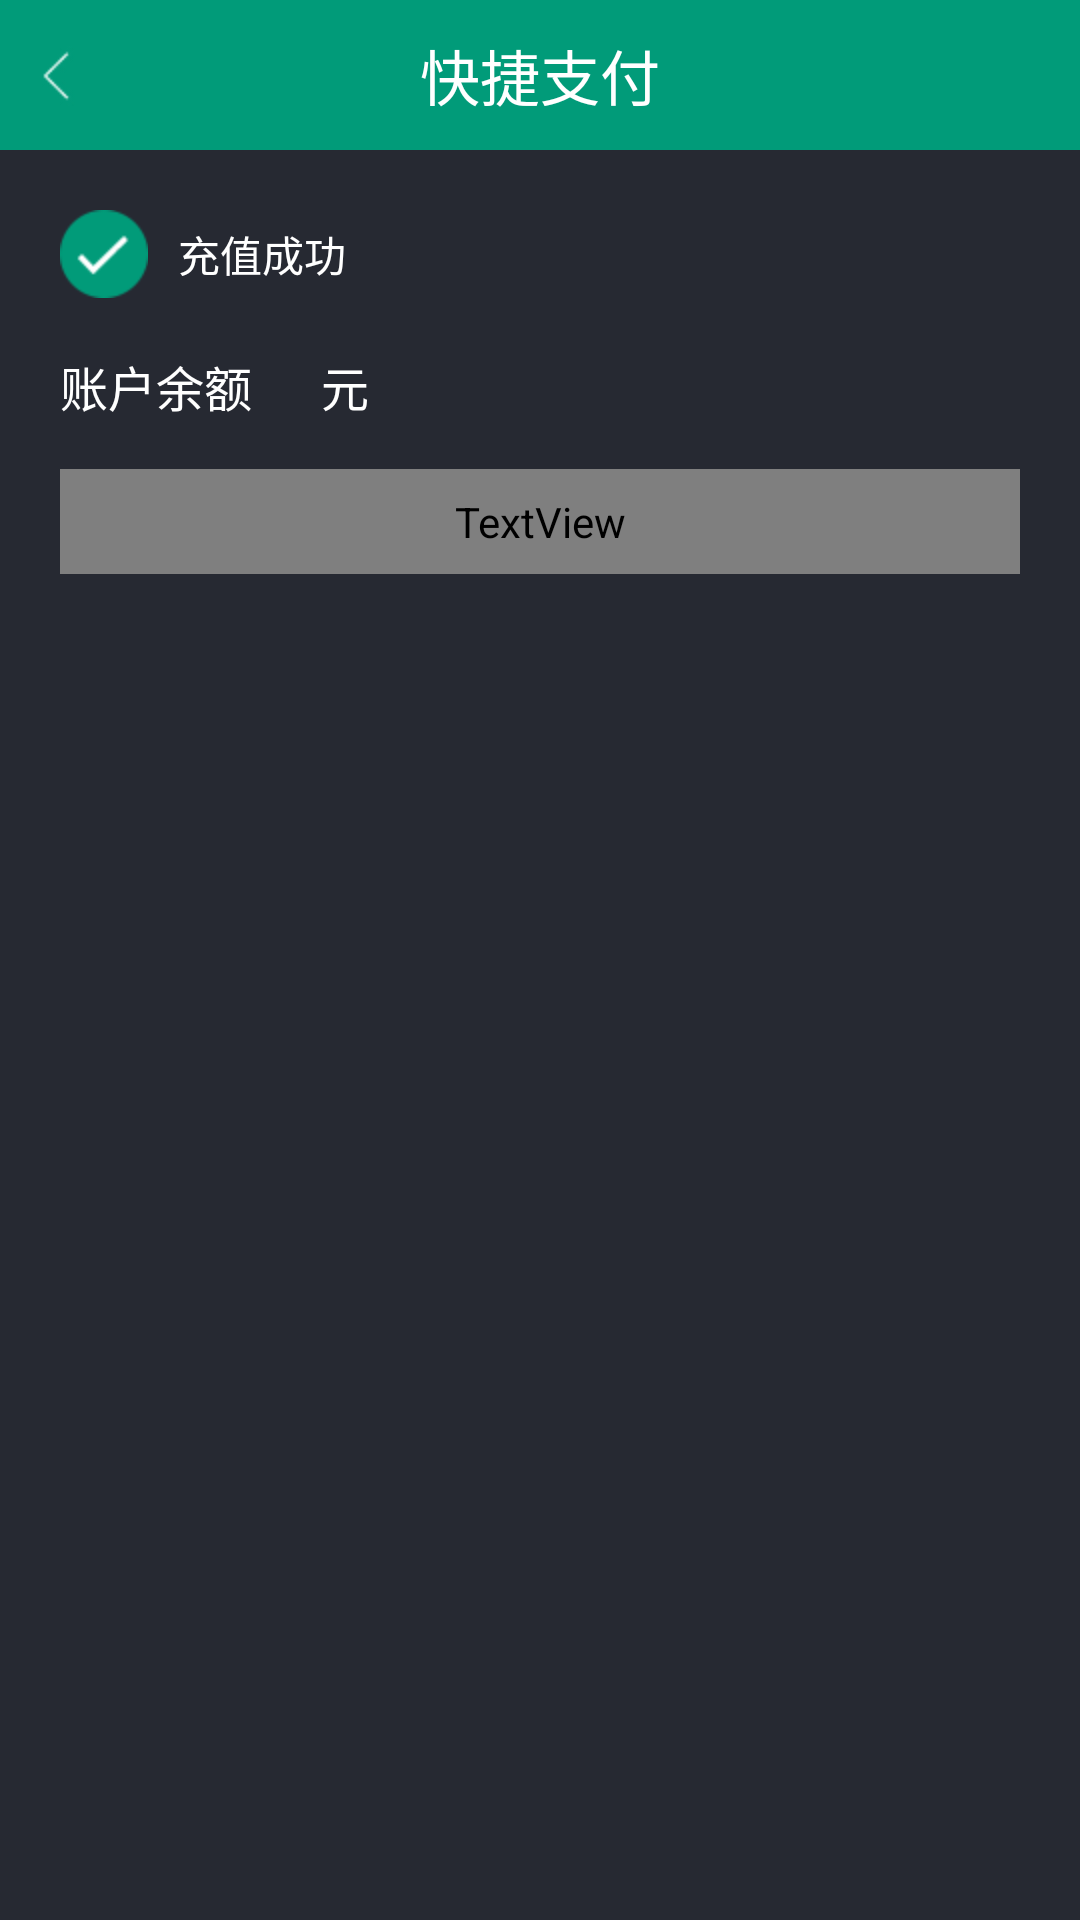

Icon bounding boxes for this 1080w x 1920h phone screenshot, format (left=x1, top=y1, right=x2, bottom=y2):
back: (left=43, top=52, right=69, bottom=100)
success icom: (left=60, top=210, right=148, bottom=298)
